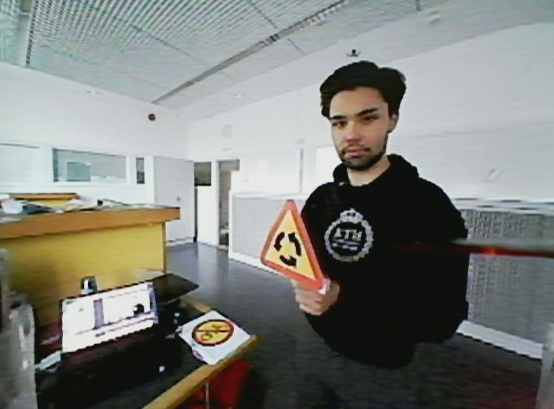roundabout_warning: (253, 197, 330, 293)
